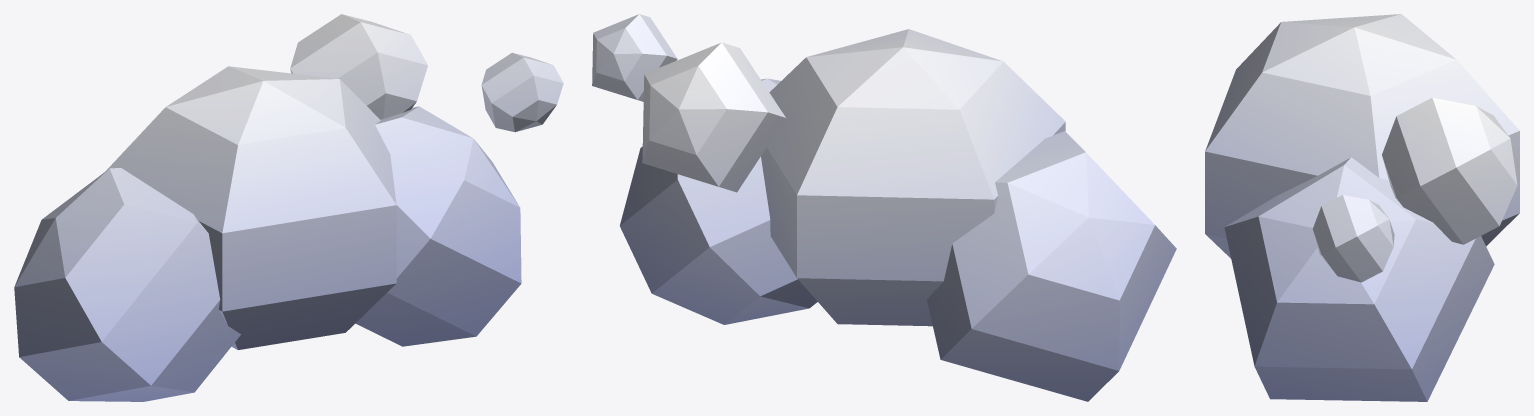
Rendered from nube_3.fbx.
3 renders of one model, left to right at view 1: azimuth 30°, elevation 25°; view 2: azimuth 150°, elevation 25°; view 3: azimuth 270°, elevation 25°, orthographic. The views are drawn at different scales.
Visible parts, largest first — view 1: nube 4; view 2: nube 4; view 3: nube 4.
Boxes of the visible parts, x1,y1,x2,y2 form: nube 4: (14,14,563,401); nube 4: (592,14,1176,401); nube 4: (1205,14,1519,401).
Bounding box in the file's own units: 812 × 432 × 406.
